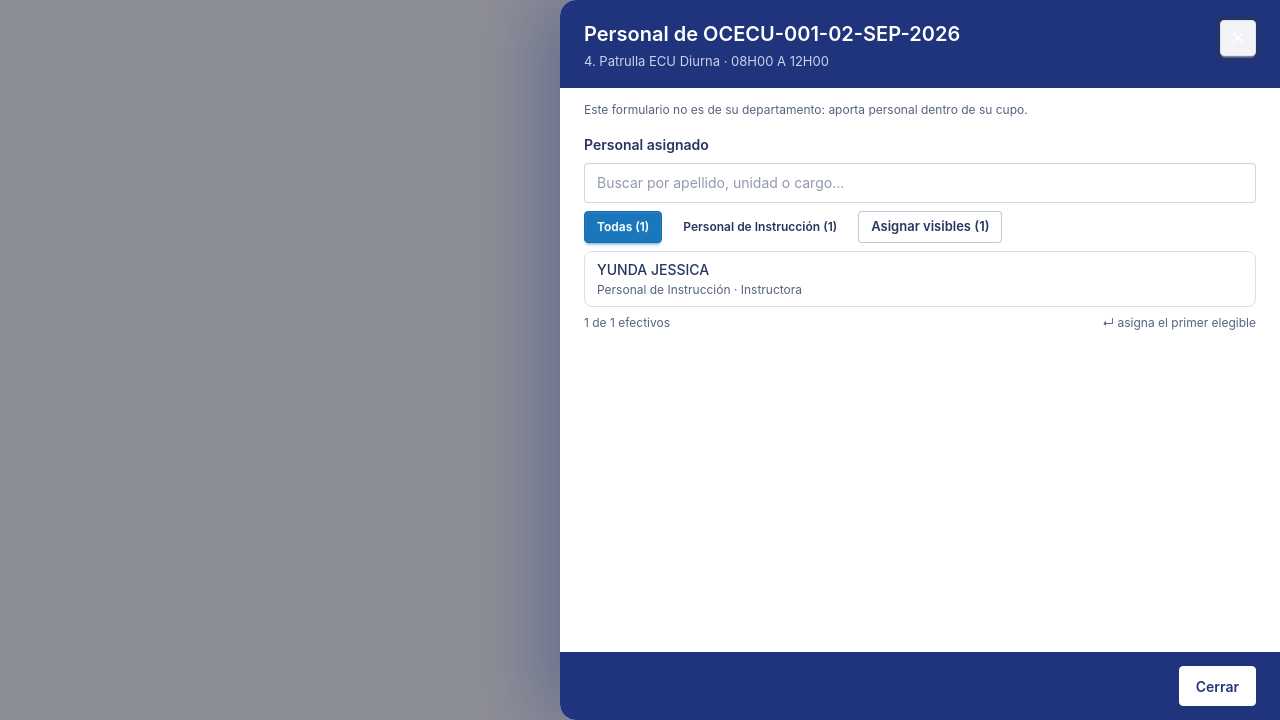
Scenario: P-13 · asignar personal lo dice › tras asignar, confirma y nombra a la persona y al operativo
Click the button "YUNDA JESSICA Personal de Instrucción · Instructora".
click(752, 278)  # box [585,252,920,306]
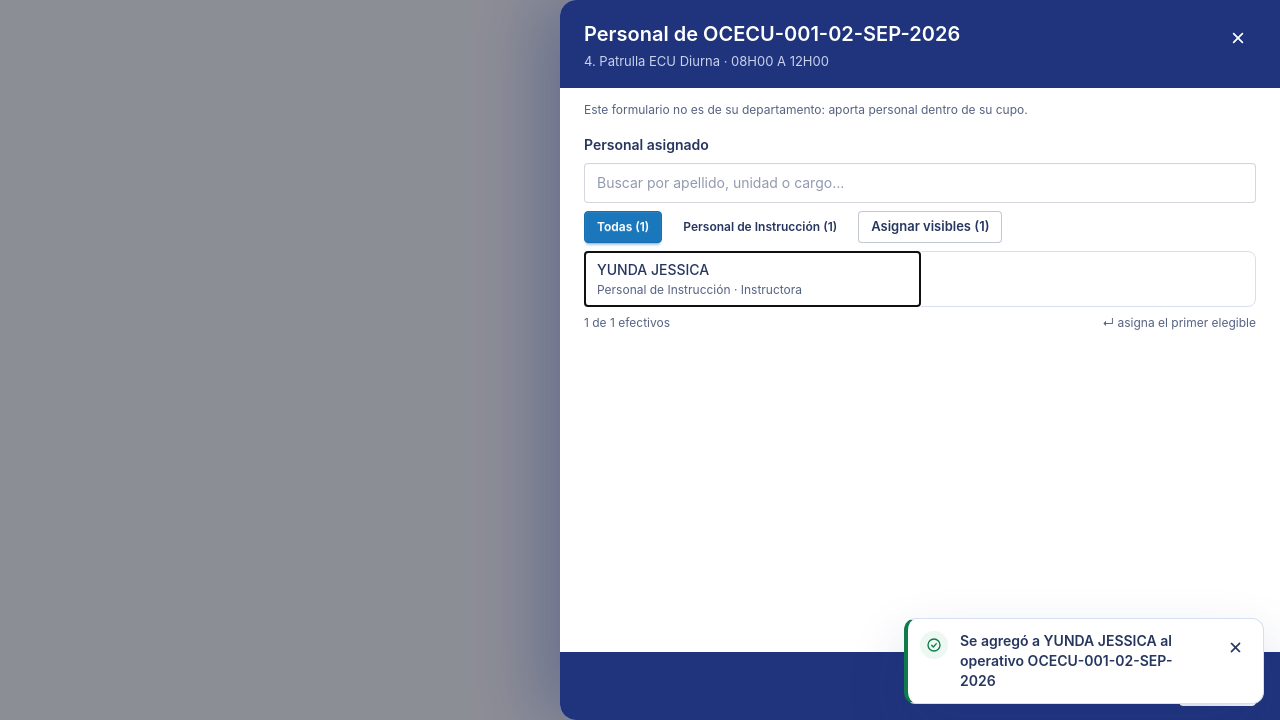
Expected: the text "Se agregó a YUNDA JESSICA al operativo OCECU-001-02-SEP-2026" is shown, [960,631,1207,691]
